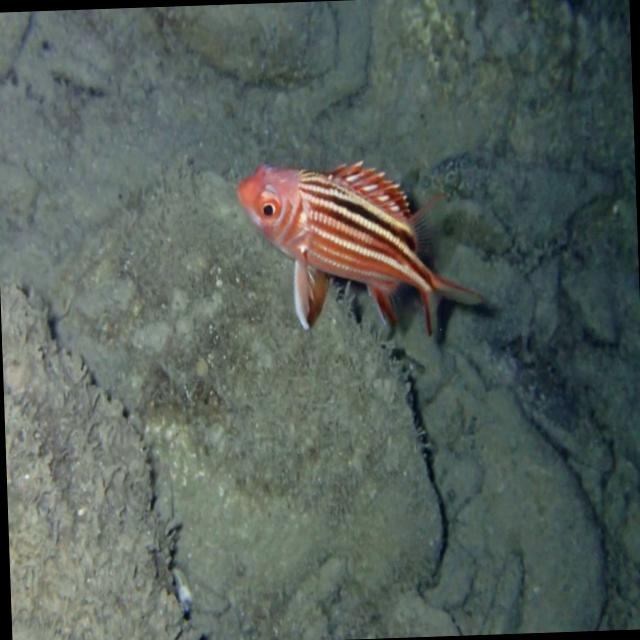Asker Baligi: (230, 129, 494, 358)
